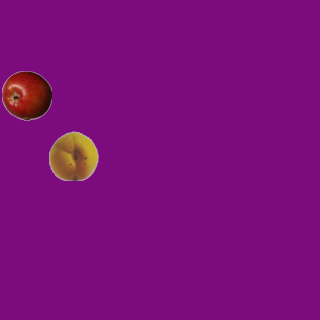Apple Braeburn: (1, 70, 51, 120)
Peach 2: (48, 130, 98, 180)
